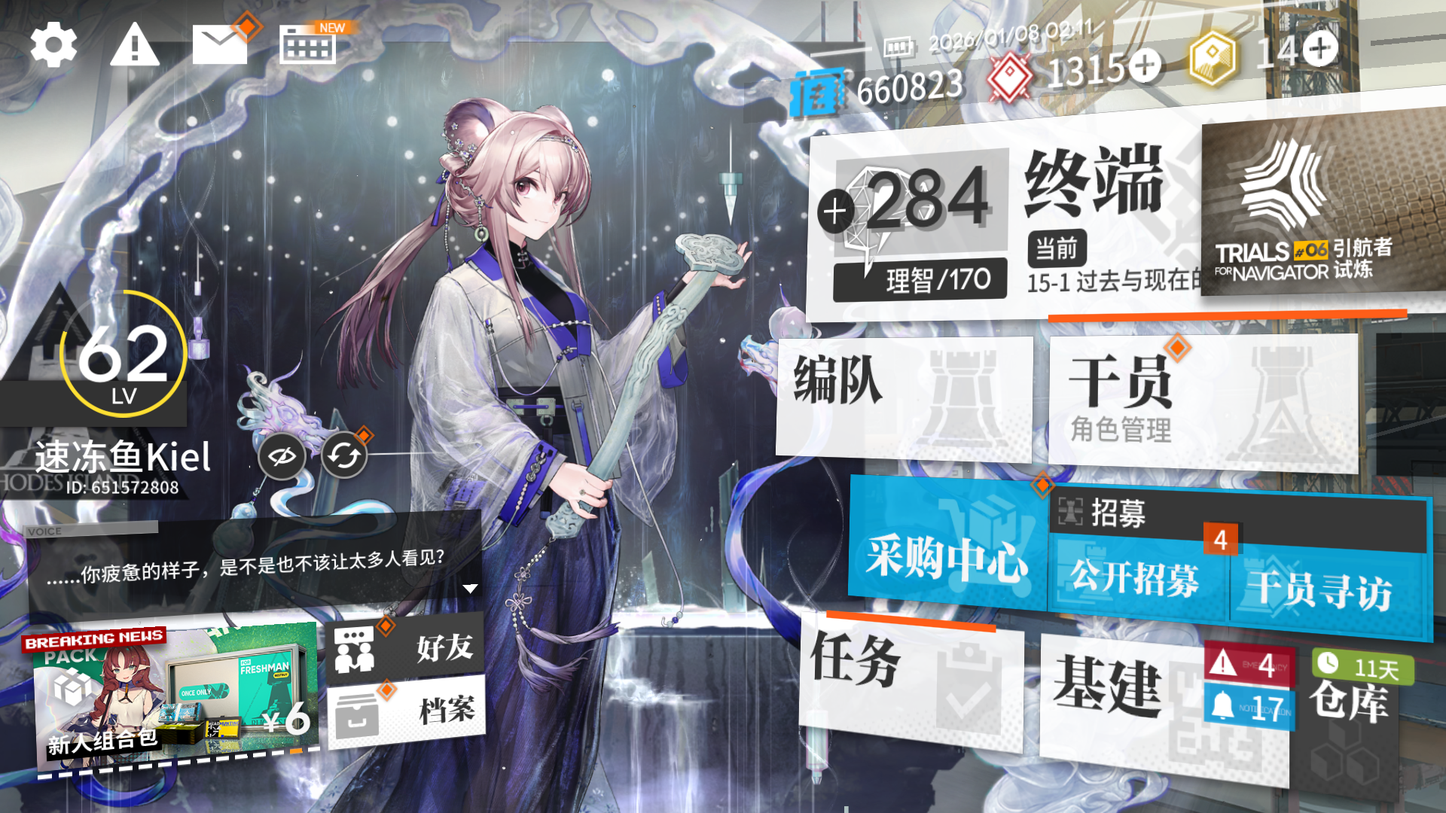home_button: (1014, 127, 1191, 232)
infrastructure_button: (1043, 632, 1283, 767)
